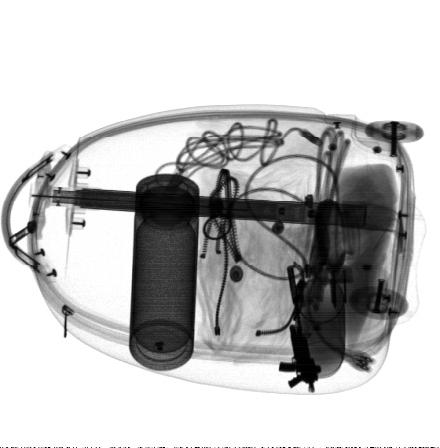Gun: (279, 266, 322, 395)
